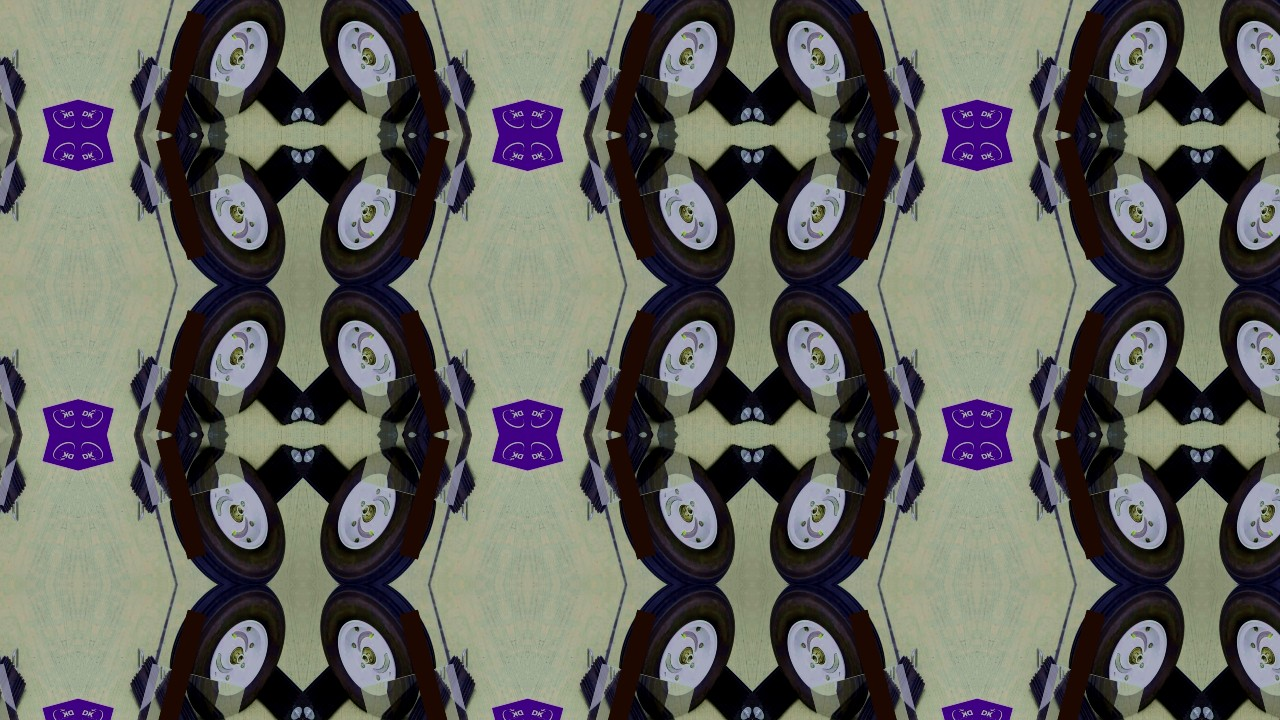chock: (114, 51, 214, 135), (391, 51, 491, 135), (564, 51, 664, 135), (841, 51, 941, 135), (1014, 51, 1114, 135), (114, 135, 214, 219), (391, 135, 491, 219), (564, 135, 664, 219), (841, 135, 941, 219), (1014, 135, 1114, 219), (114, 351, 214, 435), (391, 351, 491, 435), (564, 351, 664, 435), (841, 351, 941, 435), (1014, 351, 1114, 435), (114, 435, 214, 519), (391, 435, 491, 519), (564, 435, 664, 519), (841, 435, 941, 519), (1014, 435, 1114, 519), (131, 64, 245, 135), (360, 64, 474, 135), (581, 64, 695, 135), (810, 64, 924, 135), (1031, 64, 1145, 135), (131, 135, 245, 206), (360, 135, 474, 206), (581, 135, 695, 206), (810, 135, 924, 206), (1031, 135, 1145, 206), (131, 364, 245, 435), (360, 364, 474, 435), (581, 364, 695, 435), (810, 364, 924, 435), (1031, 364, 1145, 435), (131, 435, 245, 506), (360, 435, 474, 506), (581, 435, 695, 506), (810, 435, 924, 506), (1031, 435, 1145, 506), (114, 651, 214, 720), (391, 651, 491, 720), (564, 651, 664, 720), (841, 651, 941, 720), (1014, 651, 1114, 720), (131, 664, 245, 720), (360, 664, 474, 720), (581, 664, 695, 720), (810, 664, 924, 720), (1031, 664, 1145, 720), (141, 67, 221, 135), (384, 67, 464, 135), (591, 67, 671, 135), (834, 67, 914, 135), (1041, 67, 1121, 135), (141, 135, 221, 203), (384, 135, 464, 203), (591, 135, 671, 203), (834, 135, 914, 203), (1041, 135, 1121, 203), (141, 367, 221, 435), (384, 367, 464, 435), (591, 367, 671, 435), (834, 367, 914, 435), (1041, 367, 1121, 435), (141, 435, 221, 503), (384, 435, 464, 503), (591, 435, 671, 503), (834, 435, 914, 503), (1041, 435, 1121, 503), (236, 56, 303, 132), (302, 56, 369, 132), (752, 56, 819, 132), (1136, 56, 1203, 132), (1202, 56, 1269, 132), (236, 138, 303, 214), (302, 138, 369, 214), (752, 138, 819, 214), (1136, 138, 1203, 214), (1202, 138, 1269, 214), (236, 356, 303, 432), (302, 356, 369, 432), (752, 356, 819, 432), (1136, 356, 1203, 432), (1202, 356, 1269, 432), (236, 438, 303, 514), (302, 438, 369, 514), (752, 438, 819, 514), (1136, 438, 1203, 514), (1202, 438, 1269, 514), (686, 56, 752, 132), (686, 138, 752, 214), (686, 356, 752, 432), (686, 438, 752, 514), (236, 656, 303, 720), (302, 656, 369, 720), (752, 656, 819, 720), (1136, 656, 1203, 720), (1202, 656, 1269, 720), (141, 667, 221, 720), (384, 667, 464, 720), (591, 667, 671, 720), (834, 667, 914, 720), (1041, 667, 1121, 720), (686, 656, 752, 720), (0, 51, 41, 135), (0, 135, 41, 219), (0, 351, 41, 435), (0, 435, 41, 519), (0, 651, 41, 720), (0, 64, 24, 135), (0, 135, 24, 206), (0, 364, 24, 435), (0, 435, 24, 506), (1260, 64, 1280, 135), (1260, 135, 1280, 206), (1260, 364, 1280, 435), (1260, 435, 1280, 506), (0, 664, 24, 720), (1260, 664, 1280, 720), (0, 67, 14, 135), (0, 135, 14, 203), (0, 367, 14, 435), (0, 435, 14, 503), (0, 667, 14, 720)
wheel: (157, 135, 296, 285), (309, 135, 448, 285), (607, 135, 746, 285), (759, 135, 898, 285), (1057, 135, 1196, 285), (157, 285, 296, 435), (309, 285, 448, 435), (607, 285, 746, 435), (759, 285, 898, 435), (1057, 285, 1196, 435), (157, 435, 296, 585), (309, 435, 448, 585), (607, 435, 746, 585), (759, 435, 898, 585), (1057, 435, 1196, 585), (157, 0, 296, 135), (309, 0, 448, 135), (607, 0, 746, 135), (759, 0, 898, 135), (1057, 0, 1196, 135), (157, 585, 296, 720), (309, 585, 448, 720), (607, 585, 746, 720), (759, 585, 898, 720), (1057, 585, 1196, 720), (1209, 135, 1280, 285), (1209, 285, 1280, 435), (1209, 435, 1280, 585), (1209, 0, 1280, 135), (1209, 585, 1280, 720)
